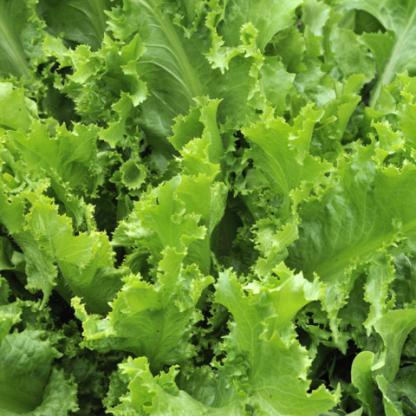--: (1, 3, 416, 416)
